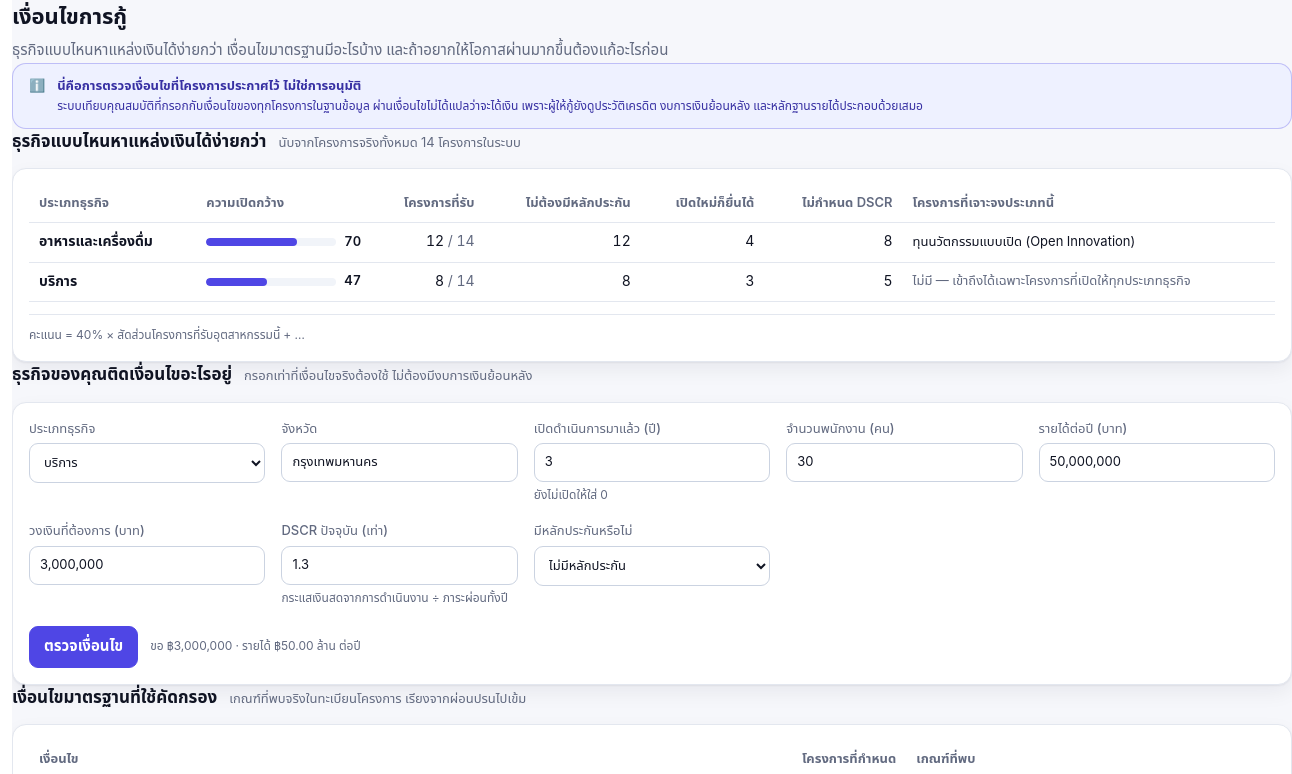
it: การเทียบประเภทธุรกิจ › ทำเครื่องหมายประเภทที่เลือกอยู่ และแสดงส่วนต่างทั้งบวกและลบ
This screenshot has width=1292, height=774.
Click the button "ตรวจเงื่อนไข" at (84, 647), box [29,626,138,668]
(page scrolled)
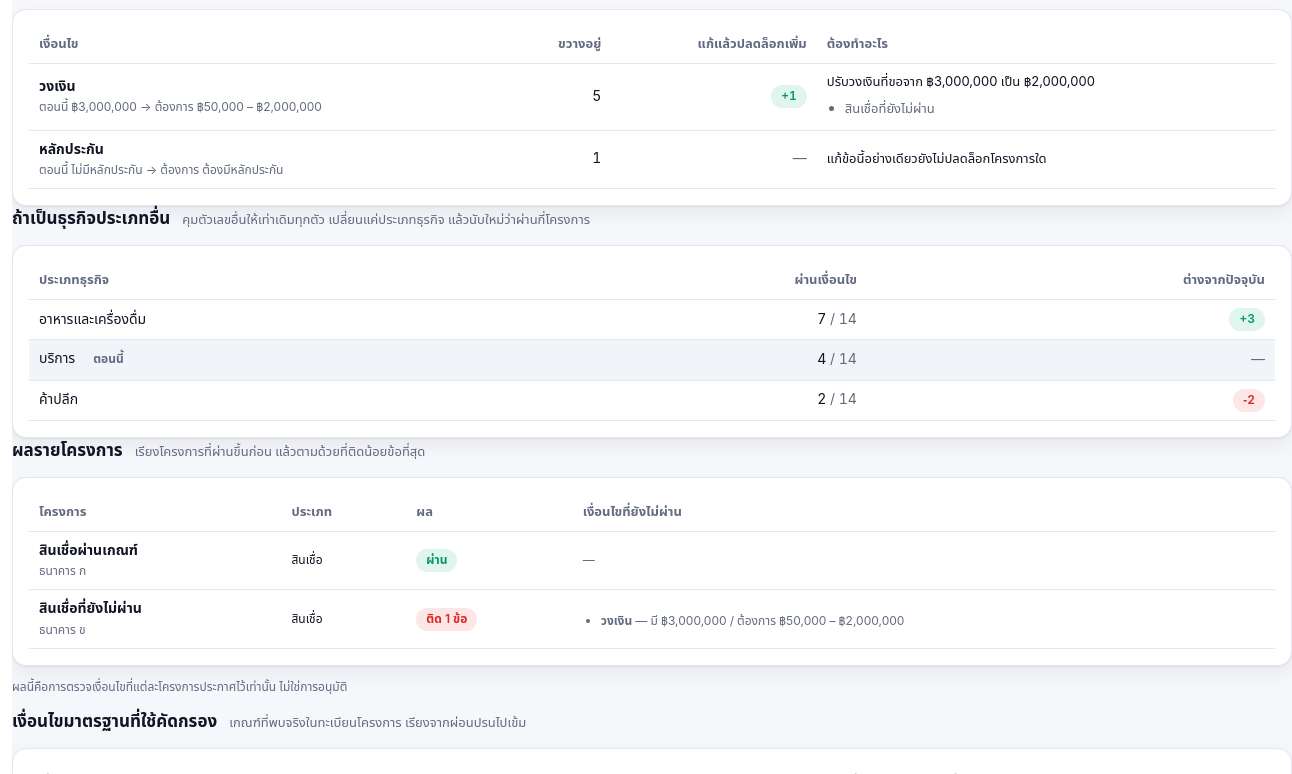
Expected: the text "ตอนนี้" is shown, [83,348,134,372]
Expected: the text "+3" is shown, [1230,308,1265,331]
Expected: the text "-2" is shown, [1233,389,1265,412]
